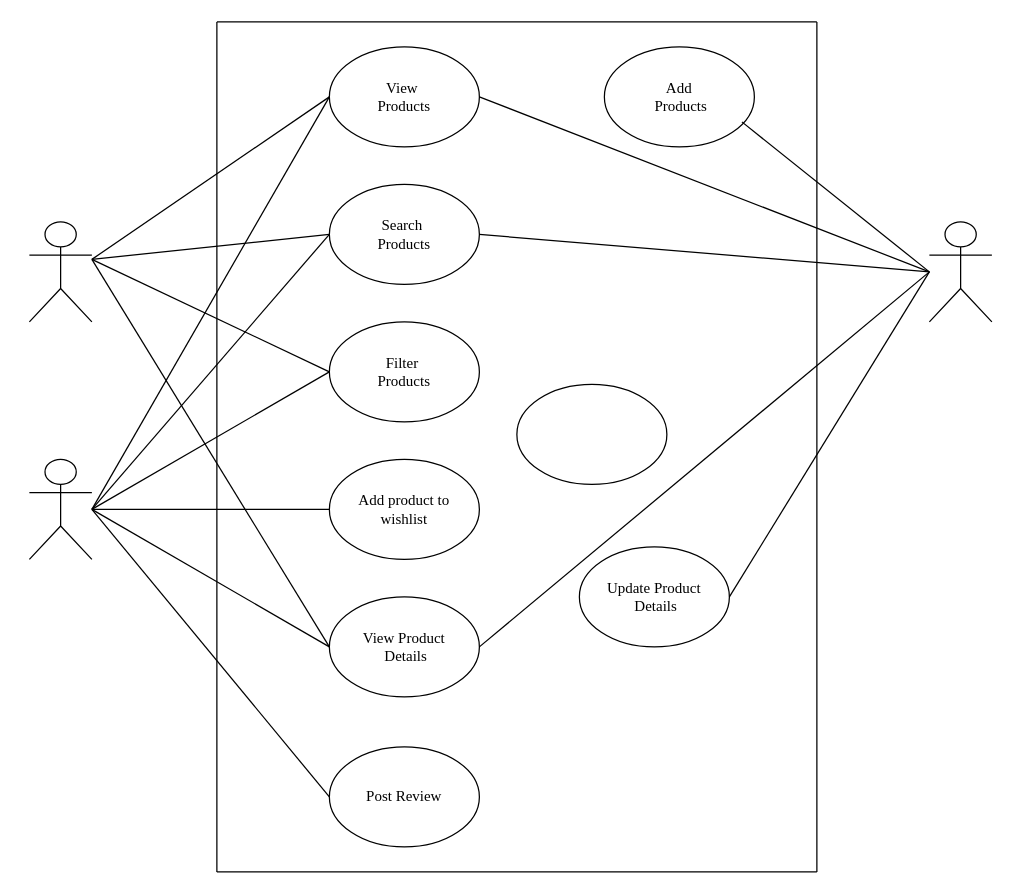
The diagram is 1014 pixels wide and 895 high, and some of its shapes have lost their labels. The shapes that lost their labels are listed below. From the top down, each one's centre as x and y in pixels, then its label:
pixel 60 271: Guest User
pixel 960 271: Admin
pixel 591 433: Delete Products
pixel 60 508: Signup User
